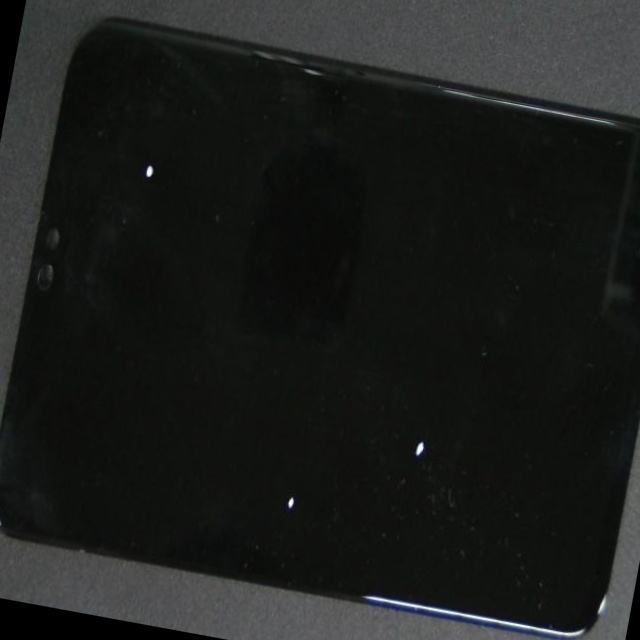stain: (112, 169, 640, 640), (70, 216, 500, 640), (79, 32, 272, 291)
